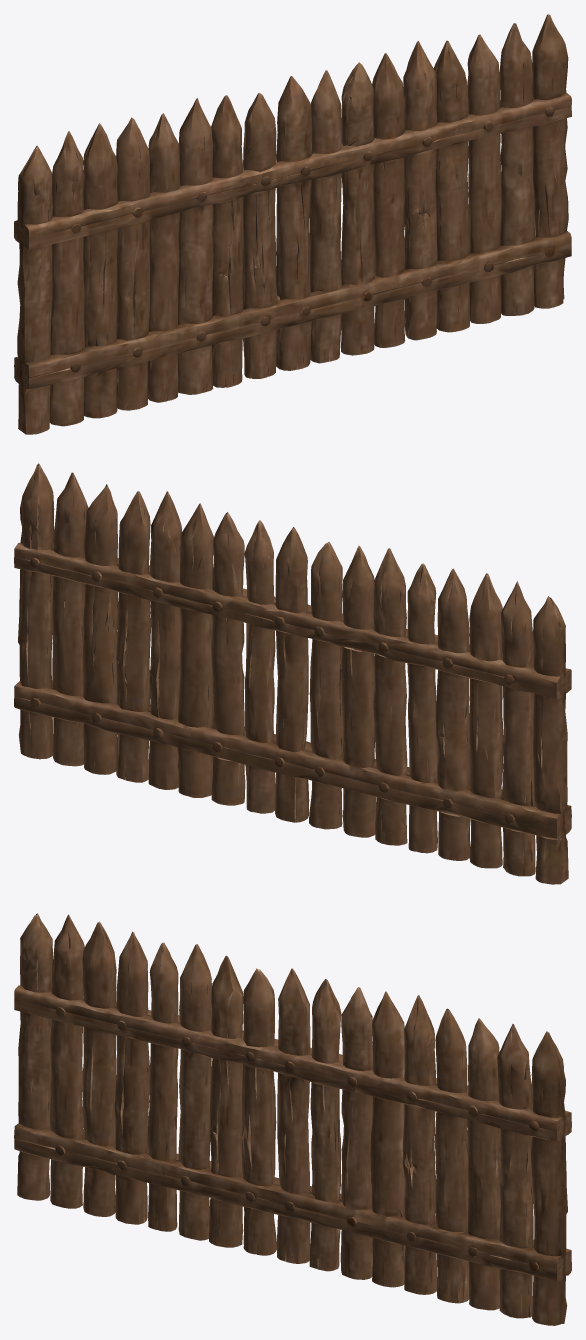
Rendered from FencePalisade.glb.
3 renders of one model, top to bottom at view 1: azimuth 30°, elevation 25°; view 2: azimuth 150°, elevation 25°; view 3: azimuth 330°, elevation 25°, orthographic.
Visible parts, largest first — view 1: FencePalisade; view 2: FencePalisade; view 3: FencePalisade.
Boxes of the visible parts, x1,y1,x2,y2 form: FencePalisade: (14, 14, 571, 434); FencePalisade: (14, 463, 571, 884); FencePalisade: (14, 913, 571, 1325).
Size of the model in its own units: 3.71 by 1.92 by 0.2365.
1 material, 1 textured.
